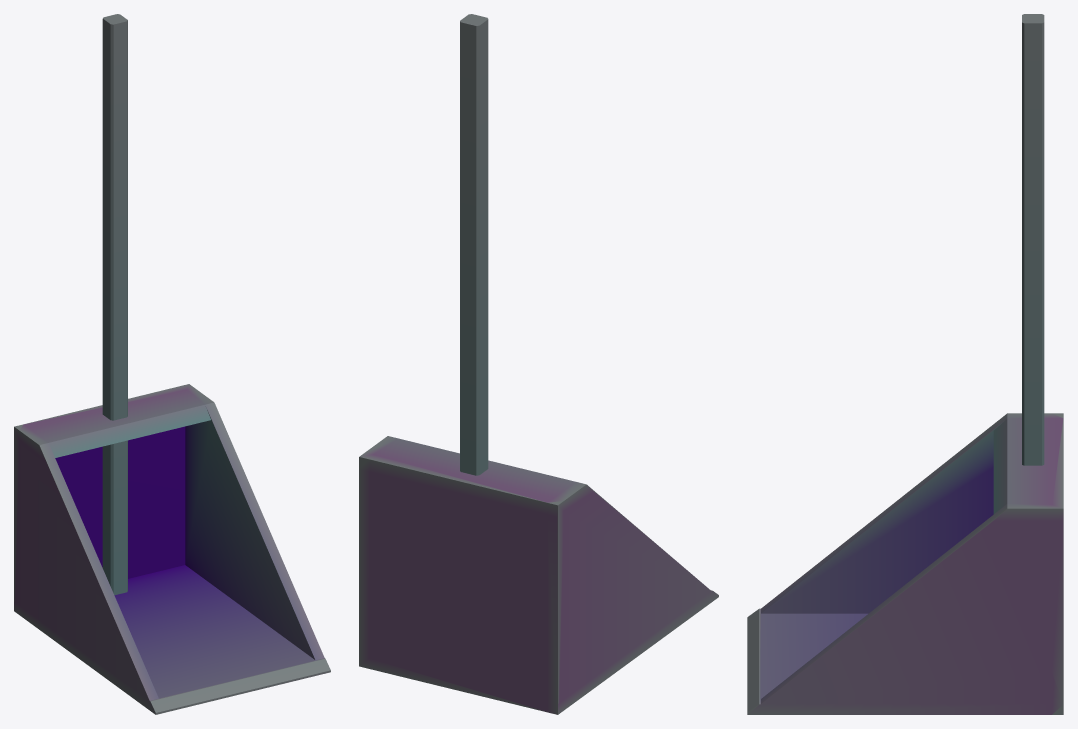
3 renders of one model, left to right at view 1: azimuth 30°, elevation 25°; view 2: azimuth 150°, elevation 25°; view 3: azimuth 270°, elevation 25°, orthographic. The views are drawn at different scales.
Visible parts, largest first — view 1: floor, stem; view 2: floor, stem; view 3: floor, stem.
Part boxes in pixels (x1=…): floor: x1=14, y1=384, x2=330, y2=714; stem: x1=102, y1=14, x2=127, y2=595; floor: x1=359, y1=436, x2=718, y2=714; stem: x1=460, y1=14, x2=488, y2=475; floor: x1=747, y1=413, x2=1063, y2=714; stem: x1=1022, y1=14, x2=1044, y2=465.
Bounding box in the file's own units: 0.2839 × 0.8996 × 0.398.
